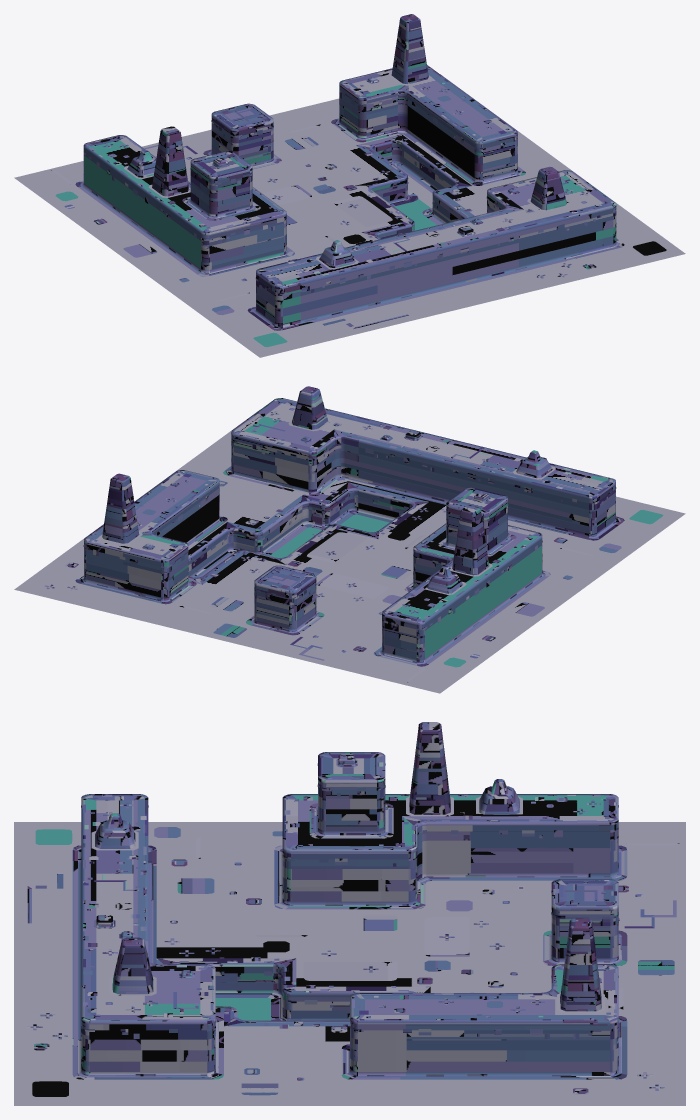
File: C_cave1_09.fbx
3 views of the same model, one above another, from view 1: azimuth 30°, elevation 25°; view 2: azimuth 150°, elevation 25°; view 3: azimuth 270°, elevation 25° (orthographic). The views are drawn at different scales.
Parts seen in each view (by area): view 1: model; view 2: model; view 3: model.
Part boxes in pixels (x1,y1,x2,y2): model: [14, 14, 685, 357]; model: [14, 386, 685, 693]; model: [14, 722, 685, 1105].
Bounding box in the file's own units: 50 × 14.78 × 50.
Materials: 1 (1 with a texture image).
